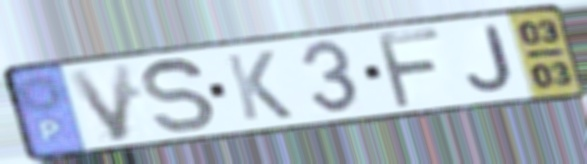3: (295, 36, 364, 119)
F: (372, 26, 445, 112)
J: (464, 23, 517, 94)
K: (221, 48, 296, 123)
S: (139, 56, 219, 135)
V: (62, 60, 136, 145)
